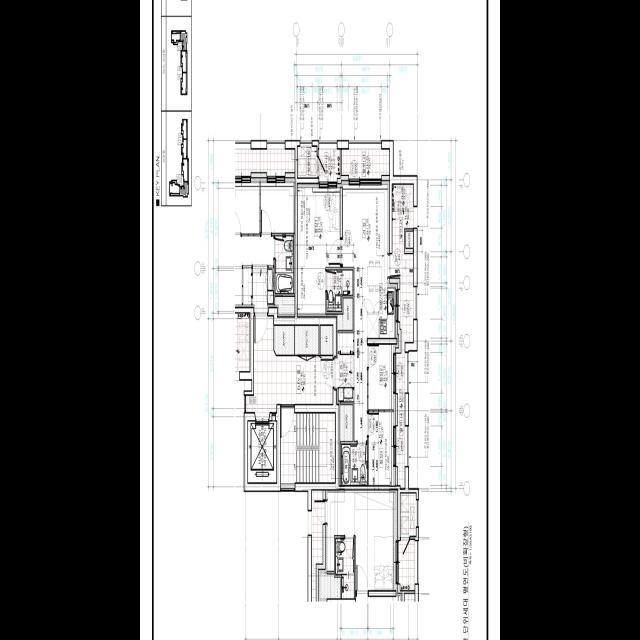background: (140, 0, 500, 640)
space_balconi: (390, 184, 413, 488), (342, 148, 389, 178), (318, 148, 340, 181)
space_bedroom: (297, 183, 340, 316), (369, 411, 395, 485), (368, 344, 395, 409)
space_elevator: (248, 421, 276, 482)
space_elevator_hall: (246, 316, 333, 412)
space_front: (334, 332, 354, 404)
space_kitchen: (367, 265, 398, 337)
space_living_room: (343, 180, 389, 441)
space_other: (295, 325, 319, 354), (274, 325, 294, 354), (339, 404, 353, 441), (337, 298, 353, 329), (320, 325, 333, 354), (406, 231, 413, 247)
space_outdoor_room: (298, 145, 317, 177)
space_staircase: (281, 413, 335, 482)
space_toilet: (327, 269, 353, 311), (342, 444, 367, 484)
